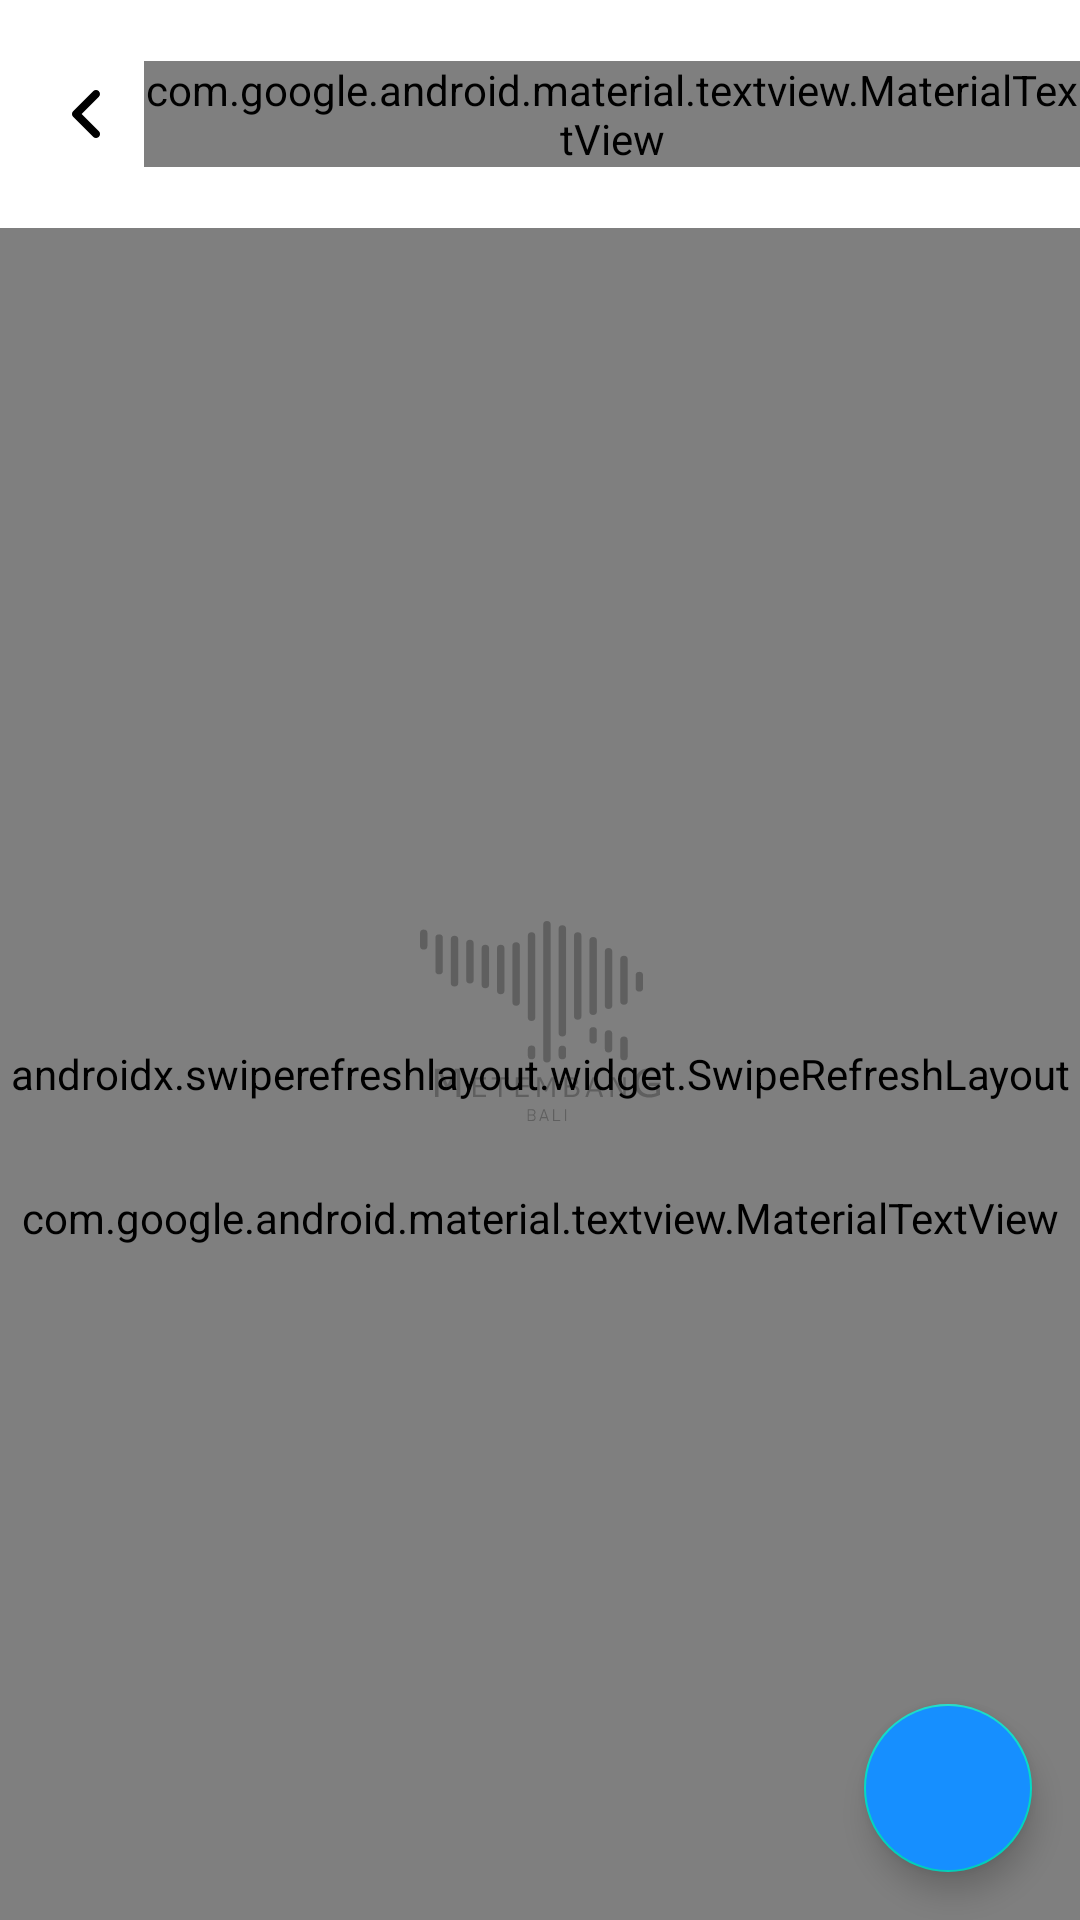

Icon bounding boxes for this 1080px x 1920px phone screenshot, format (x1, y1, x2, y2):
back: (72, 90, 100, 138)
